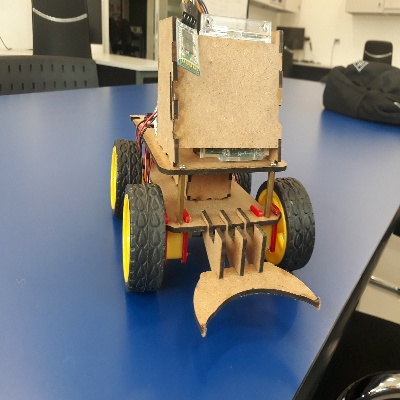Robot: (108, 14, 321, 336)
